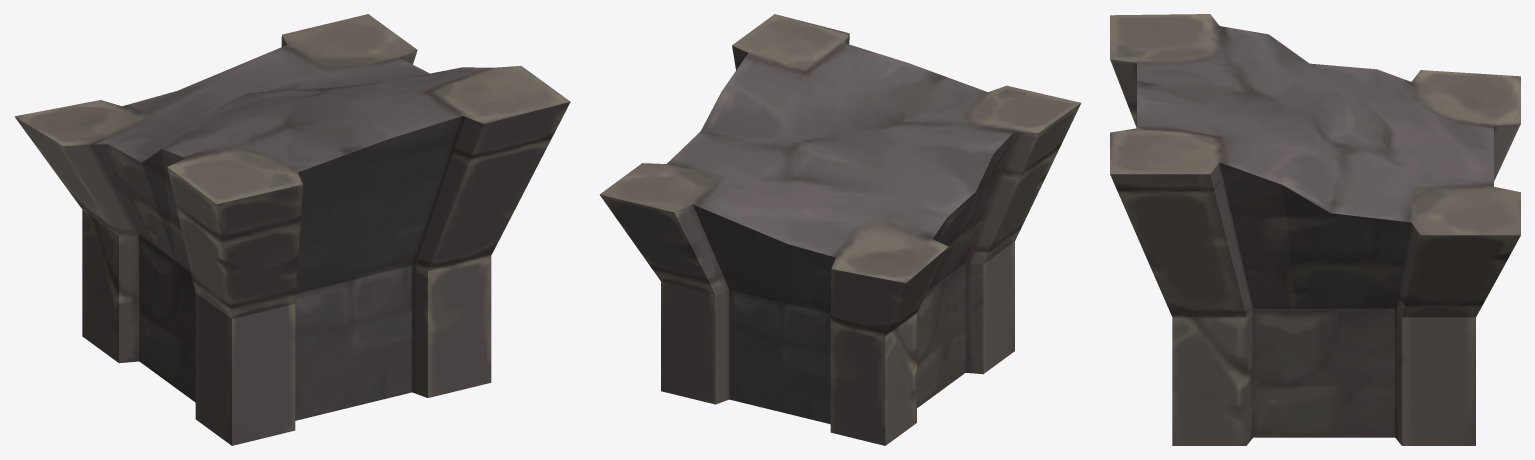
Rendered from sn_shengdi_brokenpost_006.FBX.
The picture shows the model from 3 angles, left to right: view 1: azimuth 30°, elevation 25°; view 2: azimuth 150°, elevation 25°; view 3: azimuth 270°, elevation 25°; orthographic projection. The views are drawn at different scales.
Visible parts, largest first — view 1: sn_shengdi_brokenpost_006; view 2: sn_shengdi_brokenpost_006; view 3: sn_shengdi_brokenpost_006.
Boxes of the visible parts, box(x1,y1,x2,y2) form: sn_shengdi_brokenpost_006: box(14, 14, 570, 445); sn_shengdi_brokenpost_006: box(599, 14, 1081, 445); sn_shengdi_brokenpost_006: box(1110, 14, 1520, 445).
Size of the model in its own units: 198 by 196 by 156.
